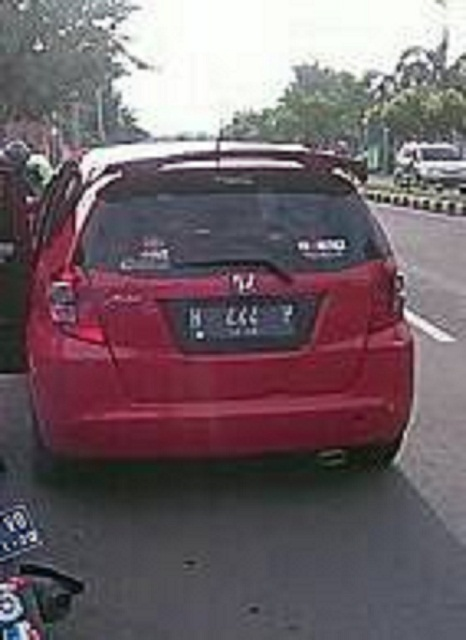plate: (189, 304, 293, 343)
